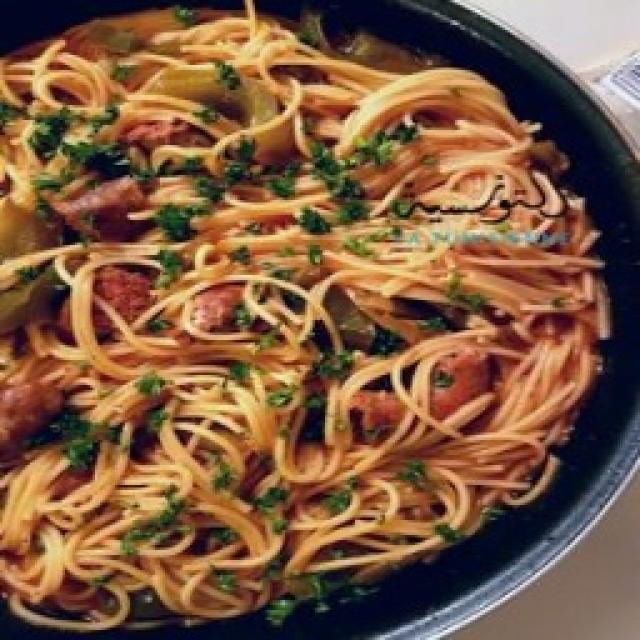Pasta: (0, 0, 609, 631)
